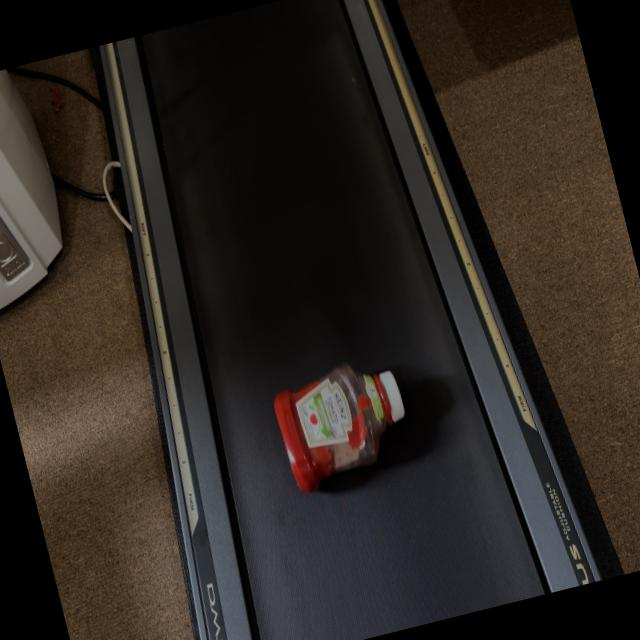Trash: (266, 354, 422, 496)
